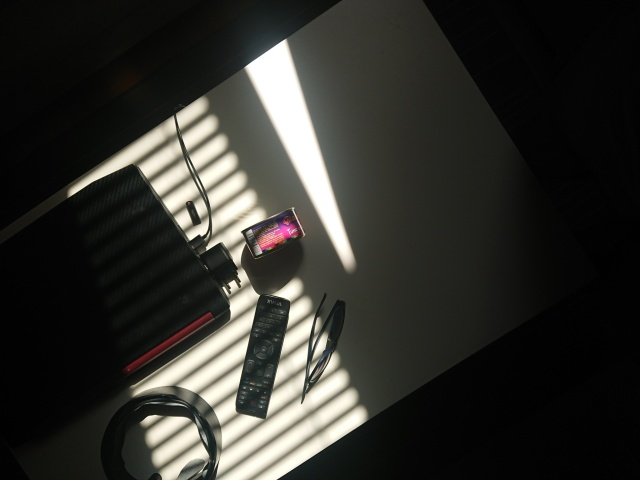Giana Tuna Salad Mexico 185g: (239, 205, 308, 262)
